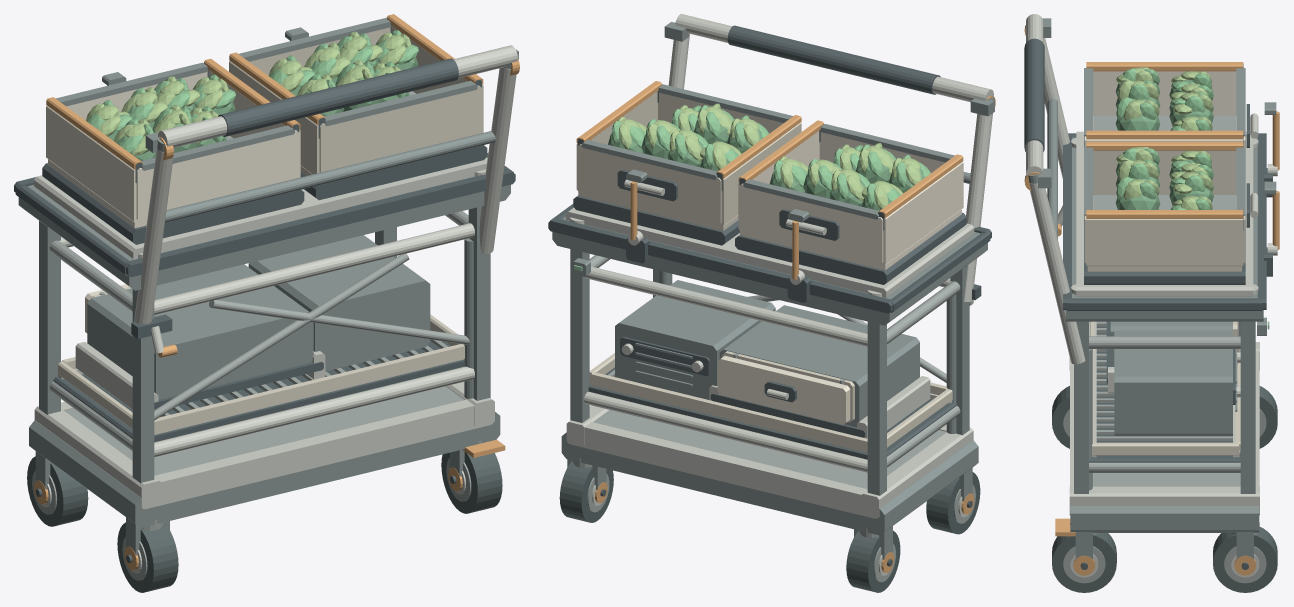
The model's file is harvest_cart_source.glb.
3 renders of one model, left to right at view 1: azimuth 30°, elevation 25°; view 2: azimuth 150°, elevation 25°; view 3: azimuth 270°, elevation 25°, orthographic. The views are drawn at different scales.
Visible parts, largest first — view 1: Static__gunmetal, Static__steel, Static__graphite, Static__darksteel, Upper_Bin_Left__cream, Upper_Bin_Right__bone, Static__bone, Harvested_Produce_Left__leaf_light, Upper_Bin_Left__graphite, Harvested_Produce_Right__leaf_light, Upper_Bin_Right__gunmetal, Upper_Bin_Left__gunmetal (+11 smaller); view 2: Static__gunmetal, Static__steel, Static__graphite, Upper_Bin_Left__cream, Upper_Bin_Right__bone, Static__darksteel, Static__bone, Lower_Drawer__cream, Upper_Bin_Left__graphite, Upper_Bin_Right__graphite, Harvested_Produce_Left__leaf_light, Harvested_Produce_Right__leaf_light (+12 smaller); view 3: Static__gunmetal, Static__steel, Upper_Bin_Right__bone, Static__graphite, Static__darksteel, Upper_Bin_Left__cream, Upper_Bin_Left__ochre, Upper_Bin_Right__ochre, Static__bone, Upper_Bin_Right__graphite, Harvested_Produce_Left__leaf_light, Harvested_Produce_Right__leaf_light (+17 smaller).
Boxes of the visible parts, bbox=[...] form: Static__gunmetal: bbox=[18, 49, 518, 555]; Static__steel: bbox=[34, 45, 517, 509]; Static__graphite: bbox=[14, 58, 515, 442]; Static__darksteel: bbox=[49, 211, 481, 530]; Upper_Bin_Left__cream: bbox=[46, 70, 300, 228]; Upper_Bin_Right__bone: bbox=[229, 26, 483, 175]; Static__bone: bbox=[58, 314, 464, 434]; Harvested_Produce_Left__leaf_light: bbox=[86, 76, 228, 155]; Upper_Bin_Left__graphite: bbox=[42, 69, 304, 244]; Harvested_Produce_Right__leaf_light: bbox=[269, 31, 411, 99]; Upper_Bin_Right__gunmetal: bbox=[239, 18, 477, 126]; Upper_Bin_Left__gunmetal: bbox=[55, 62, 294, 170]; Static__gunmetal: bbox=[552, 22, 994, 559]; Static__steel: bbox=[566, 14, 993, 518]; Static__graphite: bbox=[548, 25, 991, 459]; Upper_Bin_Left__cream: bbox=[738, 131, 963, 270]; Upper_Bin_Right__bone: bbox=[576, 91, 801, 230]; Static__darksteel: bbox=[573, 255, 960, 538]; Static__bone: bbox=[589, 353, 952, 452]; Lower_Drawer__cream: bbox=[717, 355, 850, 424]; Upper_Bin_Left__graphite: bbox=[735, 130, 966, 284]; Upper_Bin_Right__graphite: bbox=[573, 91, 739, 245]; Harvested_Produce_Left__leaf_light: bbox=[779, 143, 921, 209]; Harvested_Produce_Right__leaf_light: bbox=[617, 103, 759, 170]; Static__gunmetal: bbox=[1027, 18, 1266, 559]; Static__steel: bbox=[1026, 14, 1259, 515]; Upper_Bin_Right__bone: bbox=[1084, 150, 1245, 271]; Static__graphite: bbox=[1024, 38, 1266, 462]; Static__darksteel: bbox=[1070, 321, 1259, 534]; Upper_Bin_Left__cream: bbox=[1084, 71, 1245, 147]; Upper_Bin_Left__ochre: bbox=[1086, 62, 1243, 139]; Upper_Bin_Right__ochre: bbox=[1086, 141, 1243, 218]; Static__bone: bbox=[1090, 321, 1240, 455]; Upper_Bin_Right__graphite: bbox=[1084, 143, 1249, 284]; Harvested_Produce_Left__leaf_light: bbox=[1116, 67, 1213, 130]; Harvested_Produce_Right__leaf_light: bbox=[1116, 147, 1213, 209].
Size of the model in its own units: 1.42 by 1.67 by 0.903.
